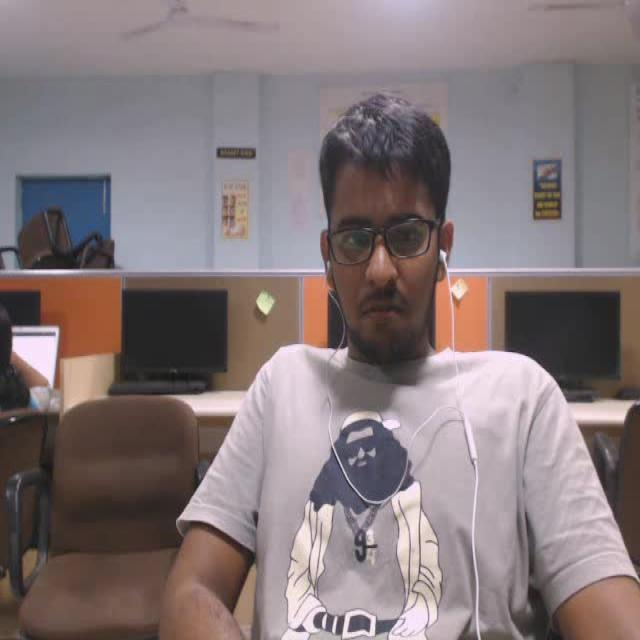Engaged: (296, 70, 532, 388)
